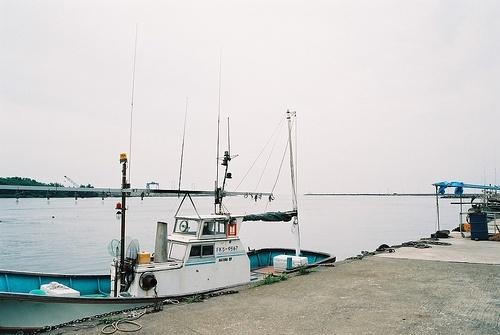boat: (1, 214, 338, 334)
